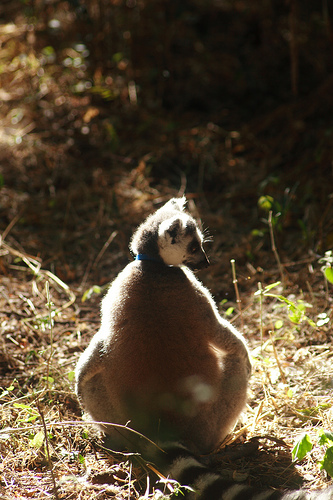cat: (66, 191, 255, 498)
